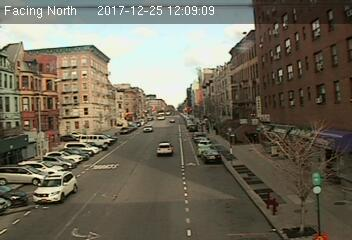car: (31, 171, 76, 201), (155, 142, 175, 156), (201, 149, 221, 163), (142, 125, 153, 132)
